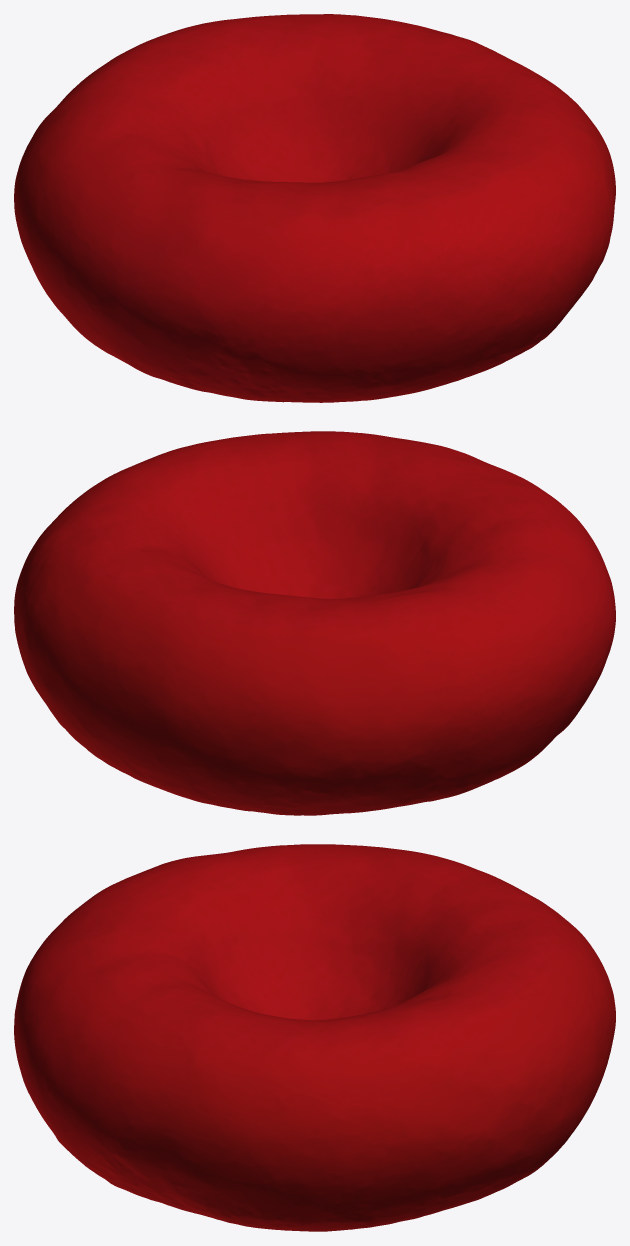
File: rbc.glb
The picture shows the model from 3 angles, top to bottom: view 1: azimuth 30°, elevation 25°; view 2: azimuth 150°, elevation 25°; view 3: azimuth 270°, elevation 25°; orthographic projection.
Size of the model in its own units: 1.9 by 0.7495 by 1.89.
Materials: 1 (1 with a texture image).
